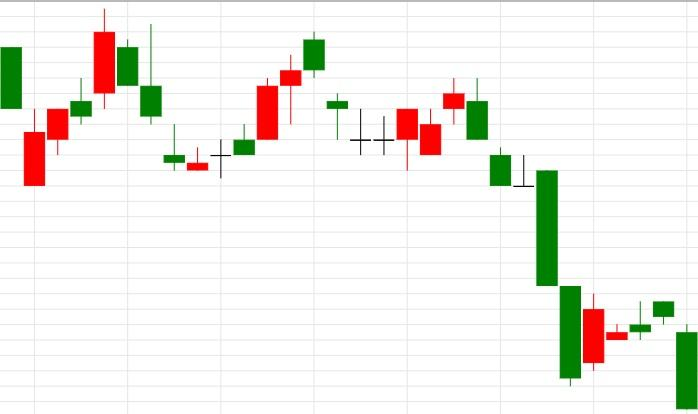three_black_crows_fall: (23, 9, 186, 186)
